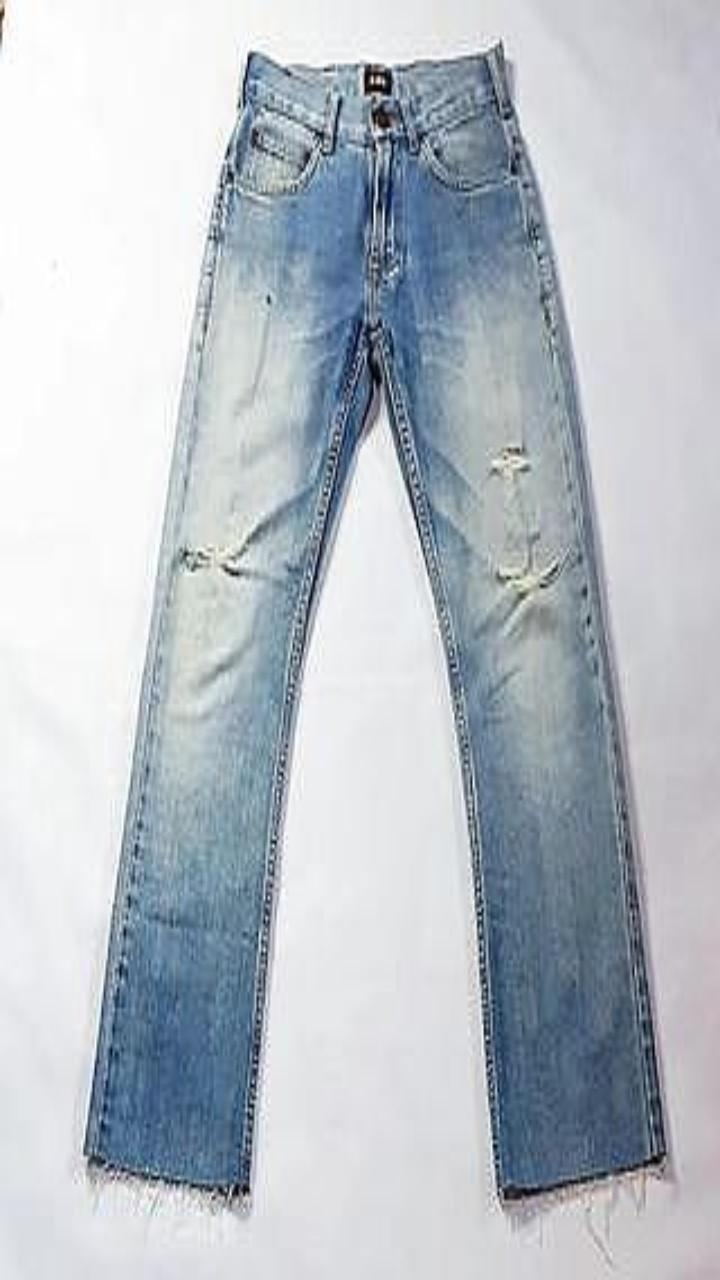Jeans: (84, 42, 665, 1198)
